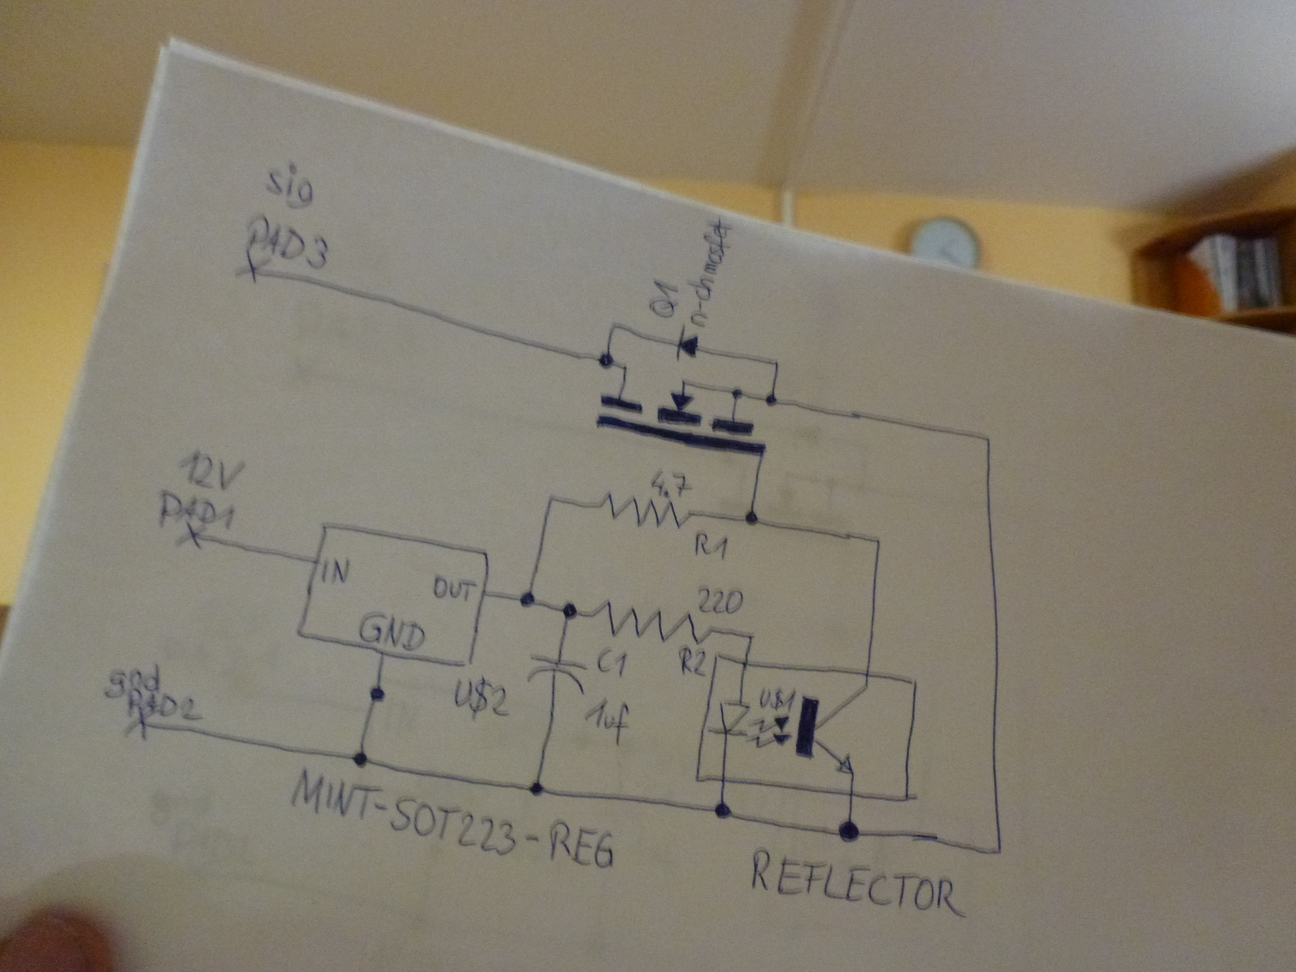capacitor.unpolarized: (522, 651, 590, 695)
diode: (674, 329, 700, 361)
integrated_circuit: (692, 650, 923, 805)
junction: (836, 817, 861, 844), (525, 777, 548, 800), (595, 352, 618, 372), (558, 599, 578, 620), (518, 589, 539, 609), (712, 800, 732, 820), (742, 508, 760, 527), (977, 429, 995, 447), (352, 750, 368, 769), (544, 491, 560, 508), (763, 391, 777, 407), (991, 844, 1005, 859), (744, 630, 756, 642), (871, 535, 884, 546), (608, 320, 619, 332), (771, 357, 781, 368)
optocoupler: (706, 678, 873, 779)
resistor: (589, 599, 692, 643), (594, 487, 688, 533)
terminal: (232, 247, 273, 286), (118, 706, 160, 743), (171, 525, 206, 550)
text: (286, 765, 617, 872), (746, 846, 963, 918), (685, 213, 735, 329), (243, 214, 333, 274), (153, 489, 236, 531), (356, 611, 429, 652), (177, 448, 246, 490), (101, 659, 165, 700), (124, 687, 204, 721), (451, 675, 511, 719), (261, 160, 314, 209), (582, 698, 635, 746), (695, 584, 745, 617), (647, 271, 679, 319), (648, 469, 692, 501), (430, 572, 472, 603), (689, 528, 729, 561), (593, 645, 631, 678), (318, 554, 349, 587), (755, 686, 795, 711), (676, 645, 705, 677)
transistor: (591, 357, 772, 461)
voltage.dc_regulator: (292, 518, 493, 672)
